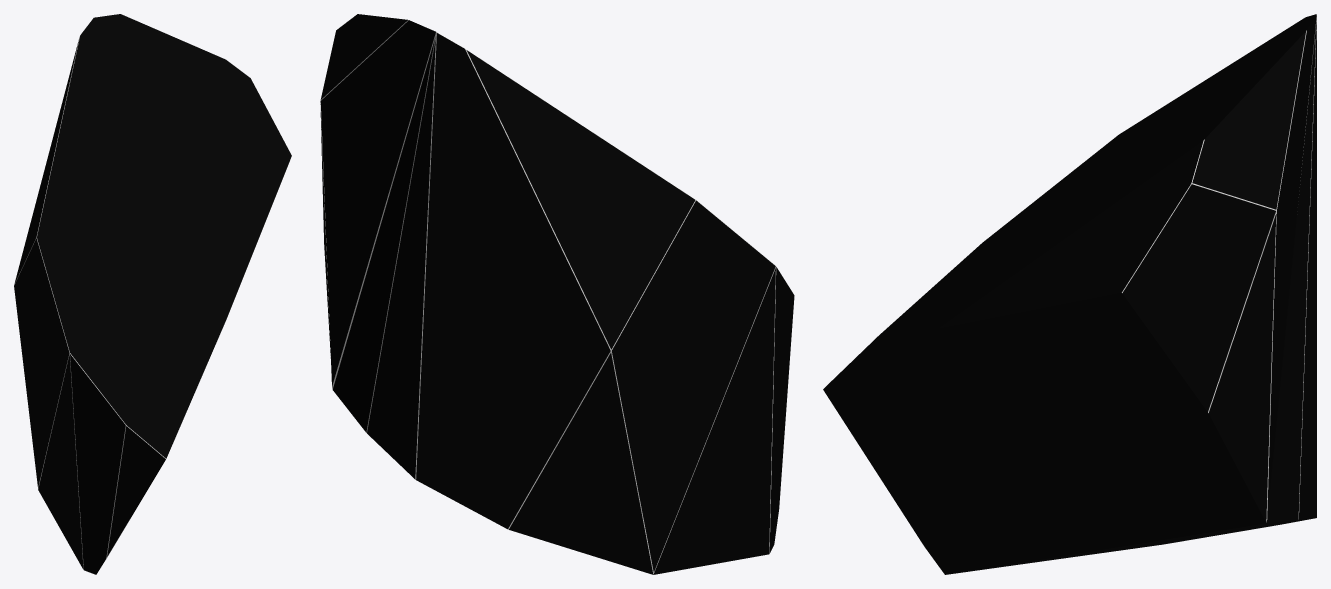
The model's file is Project04.glb.
The picture shows the model from 3 angles, left to right: view 1: azimuth 30°, elevation 25°; view 2: azimuth 150°, elevation 25°; view 3: azimuth 270°, elevation 25°; orthographic projection. The views are drawn at different scales.
Visible parts, largest first — view 1: project04; view 2: project04; view 3: project04.
Boxes of the visible parts, x1,y1,x2,y2 form: project04: (14,14,291,574); project04: (320,14,794,574); project04: (823,14,1316,574).
Bounding box in the file's own units: 1.3 × 2.02 × 1.39.
Materials: 2 (1 with a texture image).
